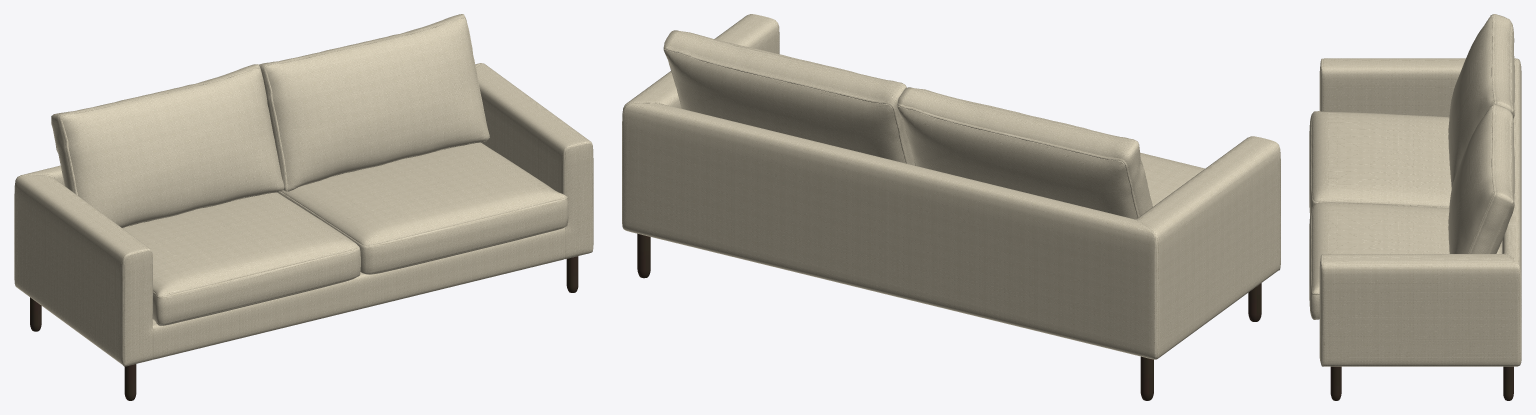
Rendered from saltsjobaden_sofa_3_osobowa_09627506.glb.
3 views of the same model, side by side, from view 1: azimuth 30°, elevation 25°; view 2: azimuth 150°, elevation 25°; view 3: azimuth 270°, elevation 25° (orthographic). The views are drawn at different scales.
Visible parts, largest first — view 1: saltsjobaden_sofa_3_osobowa_09627506; view 2: saltsjobaden_sofa_3_osobowa_09627506; view 3: saltsjobaden_sofa_3_osobowa_09627506.
Boxes of the visible parts, x1,y1,x2,y2 form: saltsjobaden_sofa_3_osobowa_09627506: (14,14,593,400); saltsjobaden_sofa_3_osobowa_09627506: (622,14,1280,400); saltsjobaden_sofa_3_osobowa_09627506: (1309,14,1521,400).
Bounding box in the file's own units: 2.05 × 0.9036 × 0.8802.
Materials: 3 (2 with a texture image).
